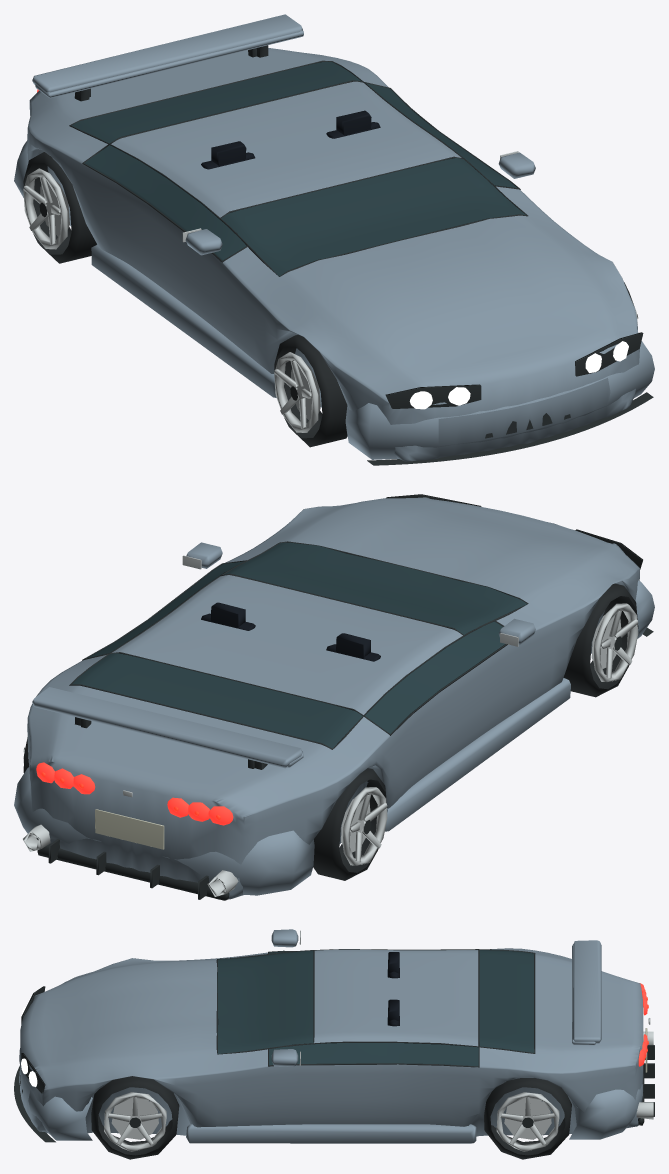
The model's file is veylune-tersil.glb.
3 views of the same model, one above another, from view 1: azimuth 30°, elevation 25°; view 2: azimuth 150°, elevation 25°; view 3: azimuth 270°, elevation 25° (orthographic). The views are drawn at different scales.
Visible parts, largest first — view 1: scocca, cofano, tetto, cristallo_ant, porta_sx, cristallo_post, portellone, spoiler, paraurti_ant, minigonna_sx, cristallo_sx, ruota_ant_sx_gomma (+18 smaller); view 2: scocca, tetto, cofano, portellone, cristallo_ant, cristallo_post, porta_sx, paraurti_post, spoiler, minigonna_sx, cristallo_sx, ruota_post_sx_gomma (+16 smaller); view 3: scocca, cofano, tetto, porta_dx, cristallo_ant, portellone, minigonna_dx, cristallo_post, cristallo_dx, spoiler, ruota_ant_dx_gomma, paraurti_post (+14 smaller).
Boxes of the visible parts, <box> form: scocca: <box>27,52,639,461</box>; cofano: <box>280,215,617,379</box>; tetto: <box>111,81,461,217</box>; cristallo_ant: <box>221,158,525,276</box>; porta_sx: <box>82,164,237,346</box>; cristallo_post: <box>71,61,361,143</box>; portellone: <box>50,48,328,125</box>; spoiler: <box>32,14,302,92</box>; paraurti_ant: <box>345,341,654,459</box>; minigonna_sx: <box>91,244,276,397</box>; cristallo_sx: <box>84,145,246,260</box>; ruota_ant_sx_gomma: <box>274,334,347,447</box>; scocca: <box>27,497,639,899</box>; tetto: <box>112,575,462,714</box>; cofano: <box>281,498,617,603</box>; portellone: <box>45,685,331,805</box>; cristallo_ant: <box>223,542,526,634</box>; cristallo_post: <box>72,653,362,748</box>; porta_sx: <box>386,638,530,808</box>; paraurti_post: <box>14,767,314,895</box>; spoiler: <box>32,687,302,768</box>; minigonna_sx: <box>385,678,570,831</box>; cristallo_sx: <box>365,621,504,733</box>; ruota_post_sx_gomma: <box>313,768,387,880</box>; scocca: <box>20,948,643,1135</box>; cofano: <box>43,959,217,1071</box>; tetto: <box>314,949,478,1046</box>; porta_dx: <box>252,1064,478,1136</box>; cristallo_ant: <box>217,950,313,1053</box>; portellone: <box>535,953,643,1055</box>; minigonna_dx: <box>186,1124,476,1143</box>; cristallo_post: <box>479,950,534,1052</box>; cristallo_dx: <box>269,1043,478,1066</box>; spoiler: <box>572,940,601,1043</box>; ruota_ant_dx_gomma: <box>91,1076,179,1159</box>; paraurti_post: <box>569,1084,642,1139</box>.
Bounding box in the file's own units: 2.33 × 1.01 × 4.91.
